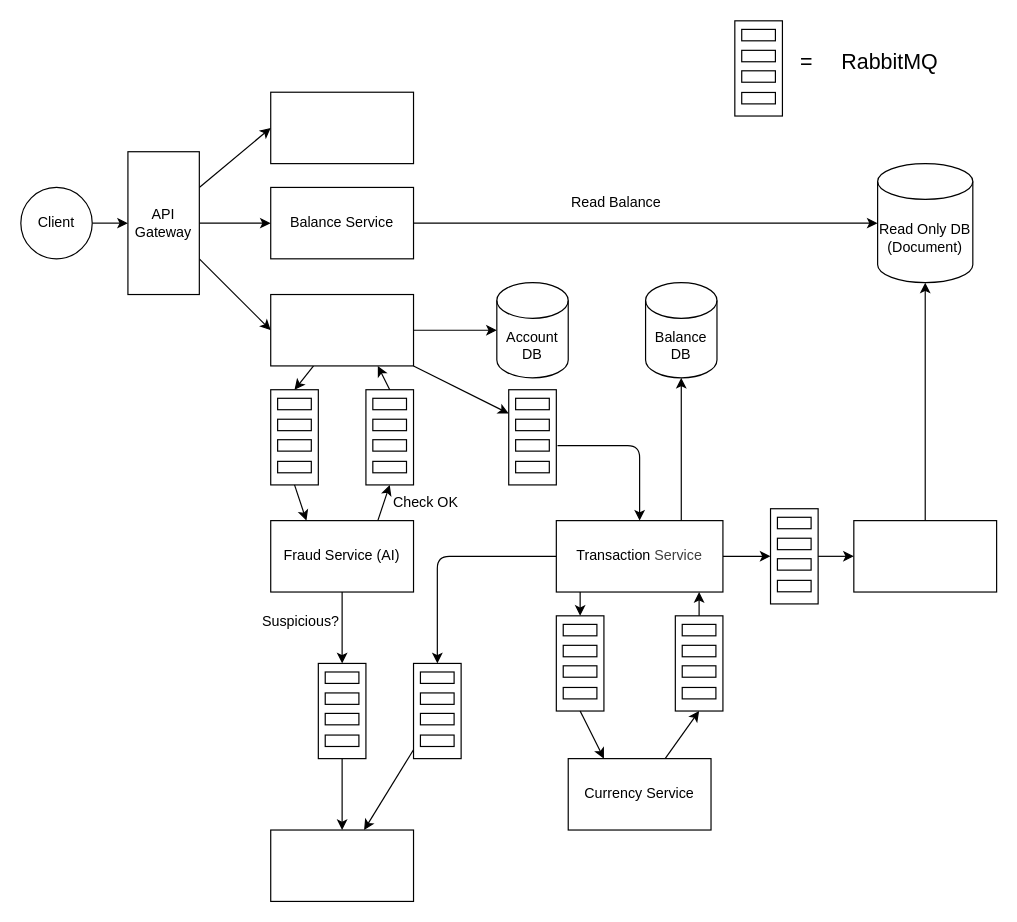
The diagram is 1017 pixels wide and 922 high, and some of its shapes have lost their labels. The shapes that lost their labels are listed below. From the top down, each one's centre as x and y in pixels, then its label:
(x=342, y=127): Auth Service
(x=342, y=329): Account Service
(x=925, y=555): Synchronize Service
(x=342, y=865): Notification Service
